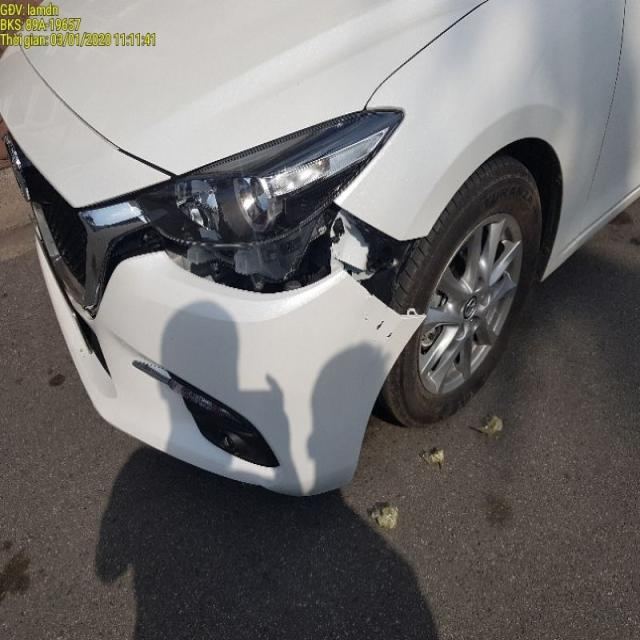Dechirure: (119, 199, 485, 368), (173, 377, 286, 489)
Phare abime: (136, 146, 396, 252)
Rayure: (371, 302, 397, 359)
